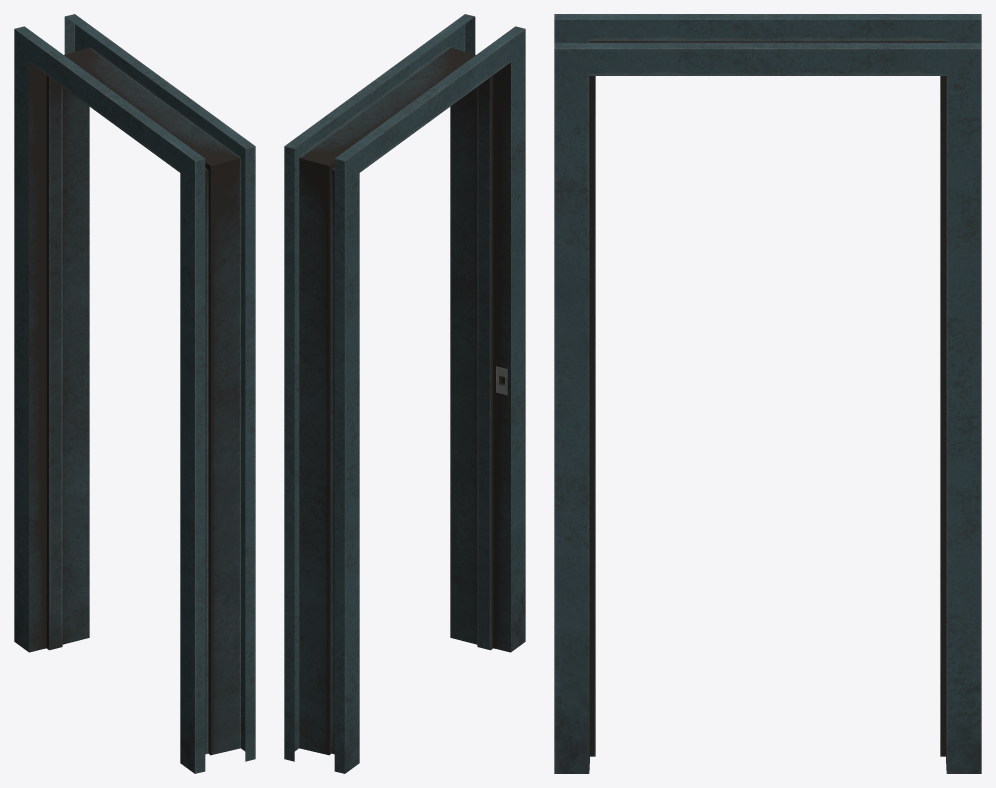
The model's file is repairdoorframe_reference.002.fbx.
3 renders of one model, left to right at view 1: azimuth 30°, elevation 25°; view 2: azimuth 150°, elevation 25°; view 3: azimuth 270°, elevation 25°, orthographic. The views are drawn at different scales.
Visible parts, largest first — view 1: repairdoorframe_reference.002; view 2: repairdoorframe_reference.002; view 3: repairdoorframe_reference.002.
Part boxes in pixels (left/top/right/bottom): repairdoorframe_reference.002: left=14, top=14, right=255, bottom=773; repairdoorframe_reference.002: left=284, top=14, right=525, bottom=773; repairdoorframe_reference.002: left=554, top=14, right=981, bottom=773.
Size of the model in its own units: 23.66 by 228 by 122.
